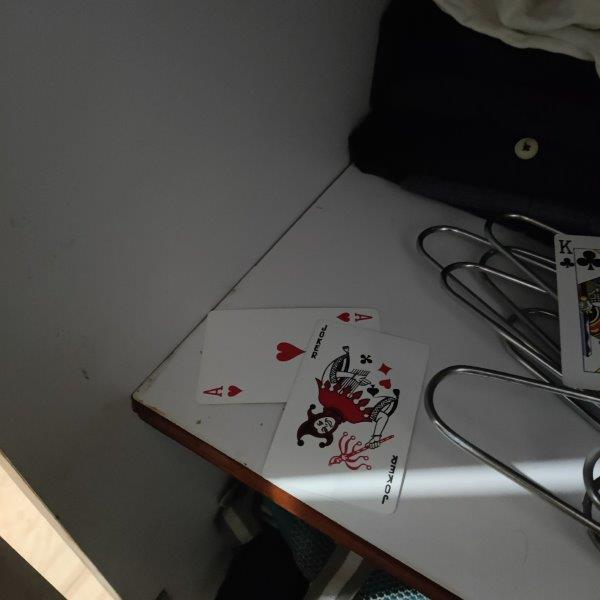Ace of Hearts: (195, 308, 383, 405)
Joker: (261, 319, 429, 515)
King of Clubs: (554, 233, 600, 393)
